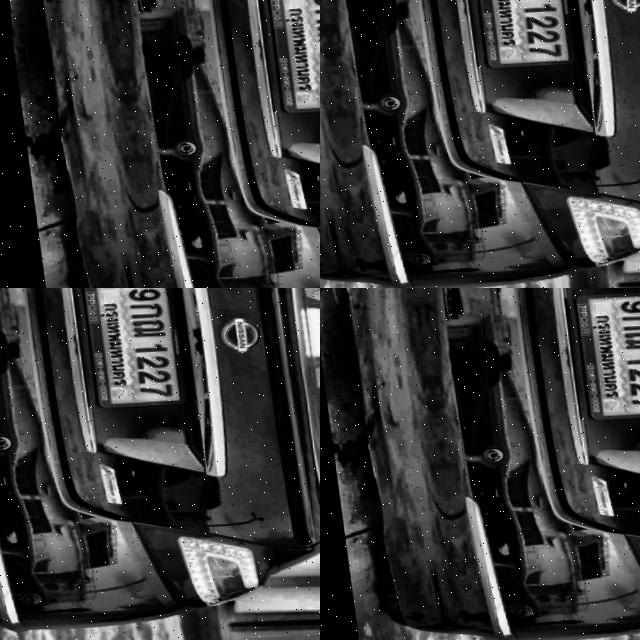license-plate: (564, 288, 640, 421)
